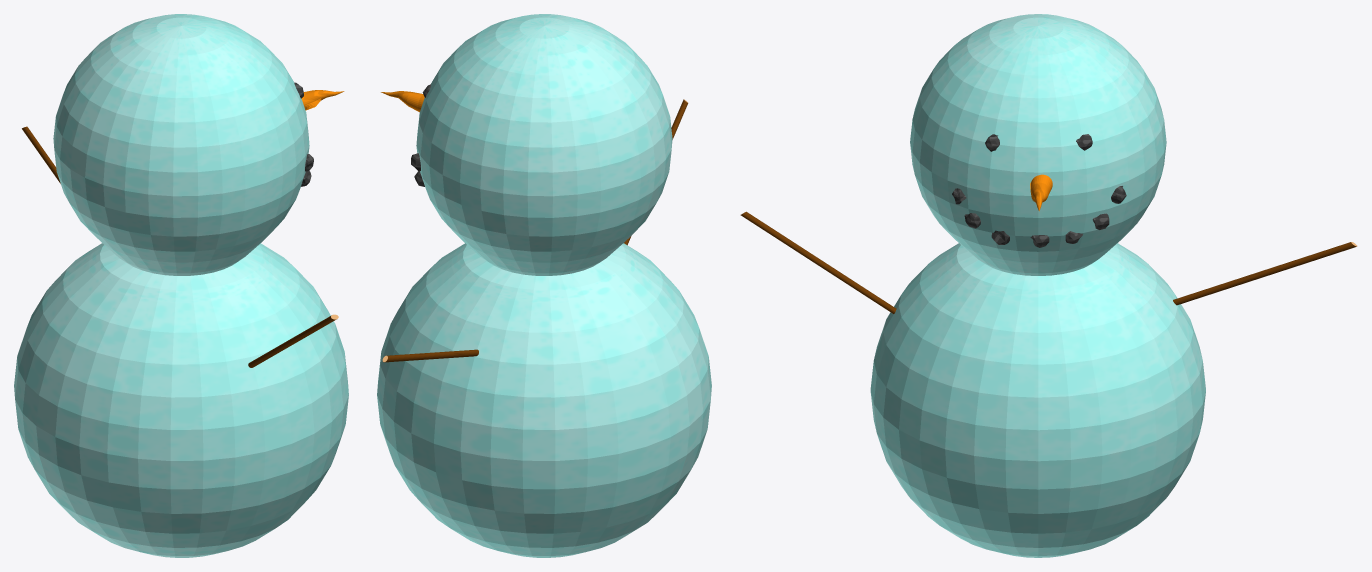
File: Snowman (1).fbx
The picture shows the model from 3 angles, left to right: view 1: azimuth 30°, elevation 25°; view 2: azimuth 150°, elevation 25°; view 3: azimuth 270°, elevation 25°; orthographic projection.
Visible parts, largest first — view 1: Body, Head, Wood Arm.001, Carrot; view 2: Body, Head, Wood Arm, Carrot; view 3: Body, Head, Wood Arm, Wood Arm.001.
Part boxes in pixels (left/top/right/bottom): Body: left=14, top=243, right=348, bottom=557; Head: left=53, top=14, right=309, bottom=275; Wood Arm.001: left=248, top=314, right=338, bottom=367; Carrot: left=301, top=90, right=344, bottom=110; Body: left=377, top=243, right=711, bottom=557; Head: left=416, top=14, right=672, bottom=275; Wood Arm: left=382, top=349, right=478, bottom=362; Carrot: left=381, top=91, right=424, bottom=111; Body: left=870, top=243, right=1205, bottom=557; Head: left=910, top=14, right=1166, bottom=275; Wood Arm: left=1173, top=242, right=1357, bottom=305; Wood Arm.001: left=740, top=211, right=896, bottom=313.
Bounding box in the file's own units: 236 × 376 × 407.
